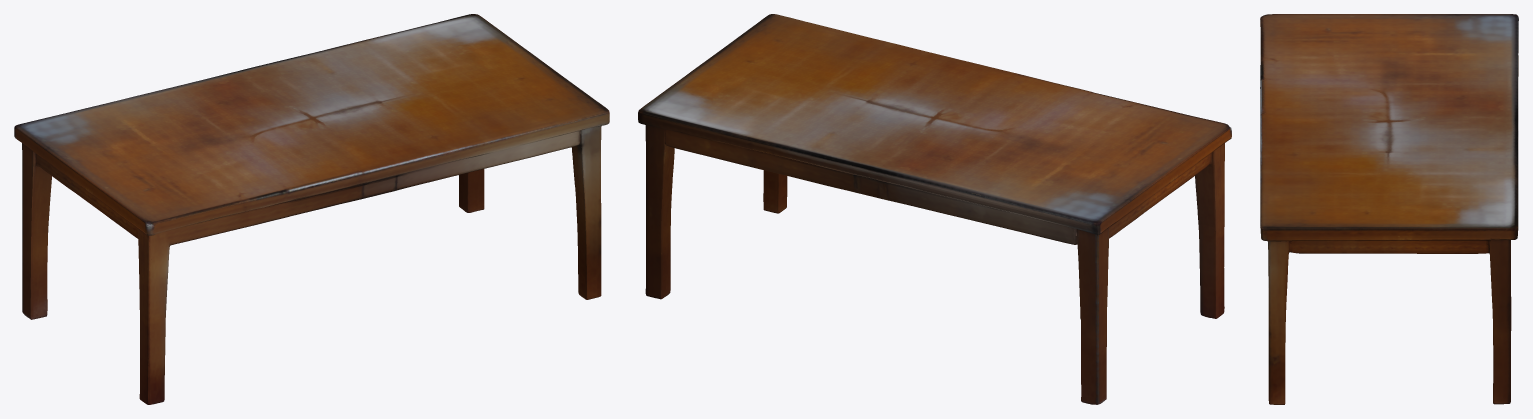
3 views of the same model, side by side, from view 1: azimuth 30°, elevation 25°; view 2: azimuth 150°, elevation 25°; view 3: azimuth 270°, elevation 25° (orthographic). The views are drawn at different scales.
Parts seen in each view (by area): view 1: world; view 2: world; view 3: world.
Part boxes in pixels (box(x1,y1,x2,y2)): world: box(14, 14, 609, 404); world: box(638, 14, 1231, 404); world: box(1260, 14, 1518, 404).
Bounding box in the file's own units: 1 × 0.388 × 0.5084.
Materials: 1 (1 with a texture image).
